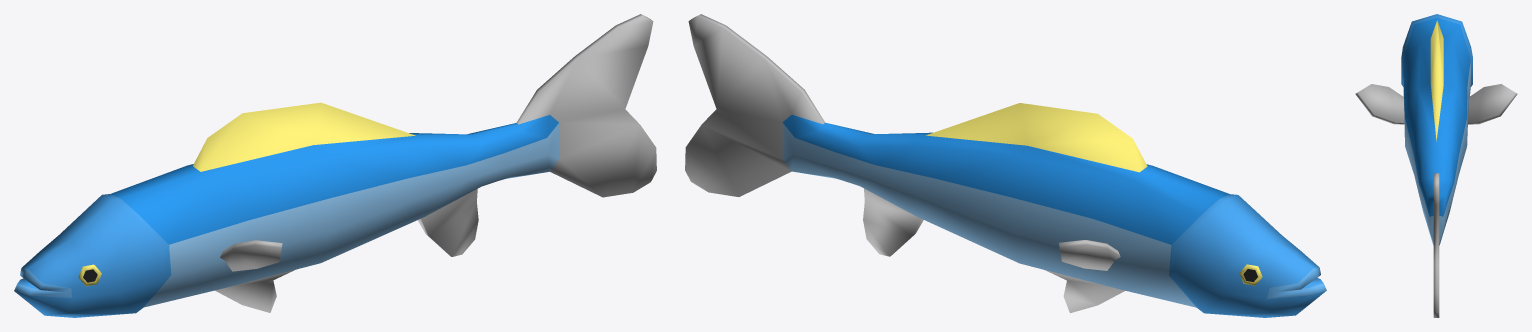
Rendered from Fish_017.fbx.
3 views of the same model, side by side, from view 1: azimuth 30°, elevation 25°; view 2: azimuth 150°, elevation 25°; view 3: azimuth 270°, elevation 25° (orthographic). The views are drawn at different scales.
Parts seen in each view (by area): view 1: Fish_017; view 2: Fish_017; view 3: Fish_017.
Part boxes in pixels (bbox=[...]): Fish_017: bbox=[14, 14, 656, 317]; Fish_017: bbox=[685, 14, 1326, 317]; Fish_017: bbox=[1355, 14, 1517, 317].
Size of the model in its own units: 128 by 34.39 by 39.53.
1 material, 1 textured.
